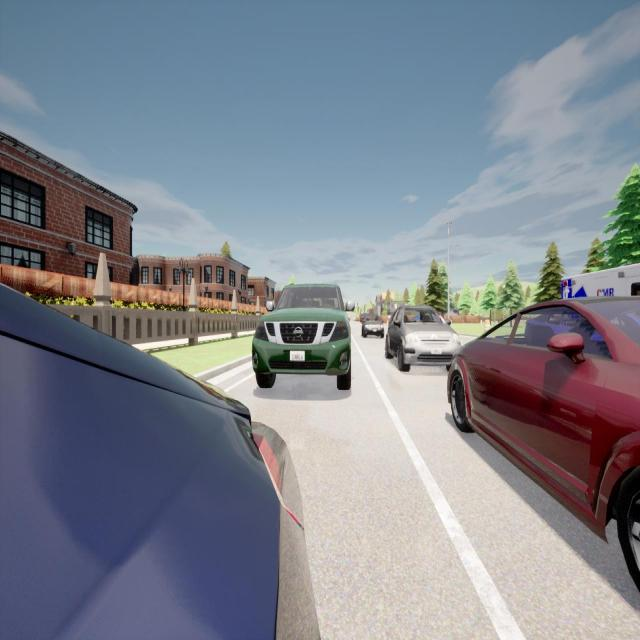Vehicle: (0, 283, 319, 640), (446, 298, 640, 601), (252, 279, 357, 393), (385, 305, 462, 371), (561, 262, 640, 300), (362, 312, 384, 338), (359, 314, 366, 322)
